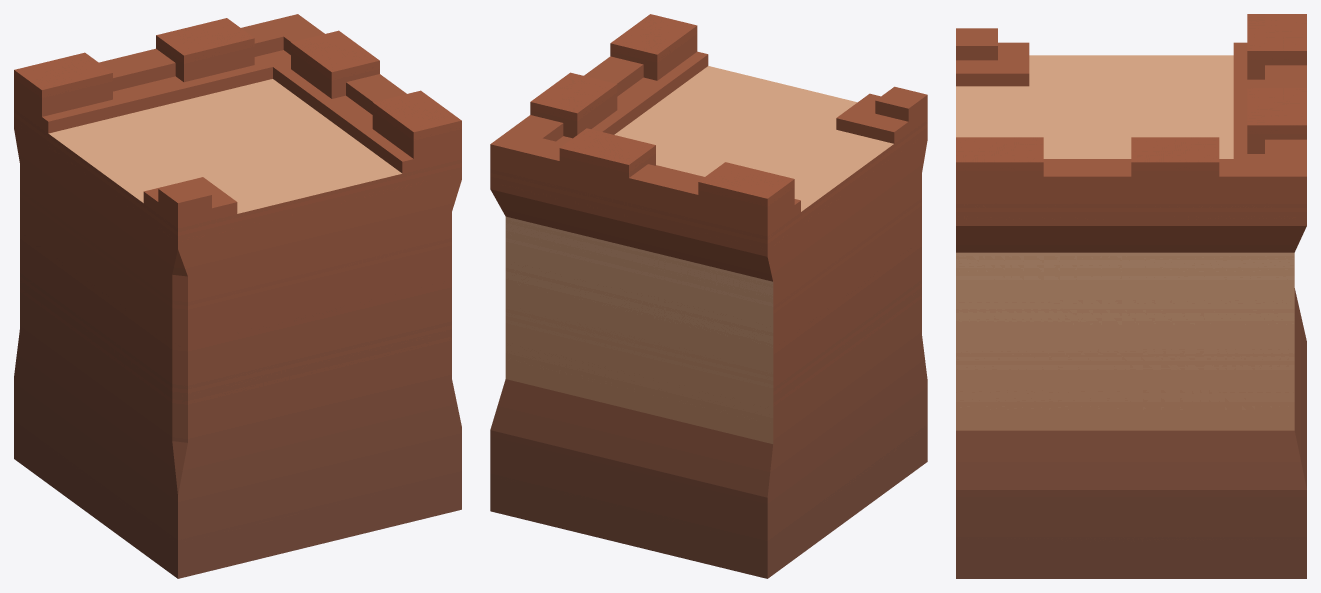
The model's file is wall-corner.glb.
3 views of the same model, side by side, from view 1: azimuth 30°, elevation 25°; view 2: azimuth 150°, elevation 25°; view 3: azimuth 270°, elevation 25° (orthographic). The views are drawn at different scales.
Visible parts, largest first — view 1: wall-corner; view 2: wall-corner; view 3: wall-corner.
Boxes of the visible parts, <box> form: wall-corner: <box>14,14,461,578</box>; wall-corner: <box>490,14,927,578</box>; wall-corner: <box>956,14,1306,578</box>.
Size of the model in its own units: 3 by 3.93 by 3.
Materials: 1 (1 with a texture image).
